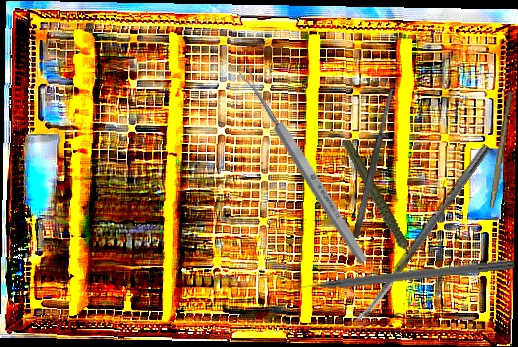Handpiece: (341, 130, 416, 279)
Pusher: (279, 256, 516, 295)
Scalpel Handle: (489, 91, 514, 209)
Spatula Surgical: (351, 87, 397, 240)
Surgical Spoon: (236, 64, 371, 266), (351, 142, 492, 330)
